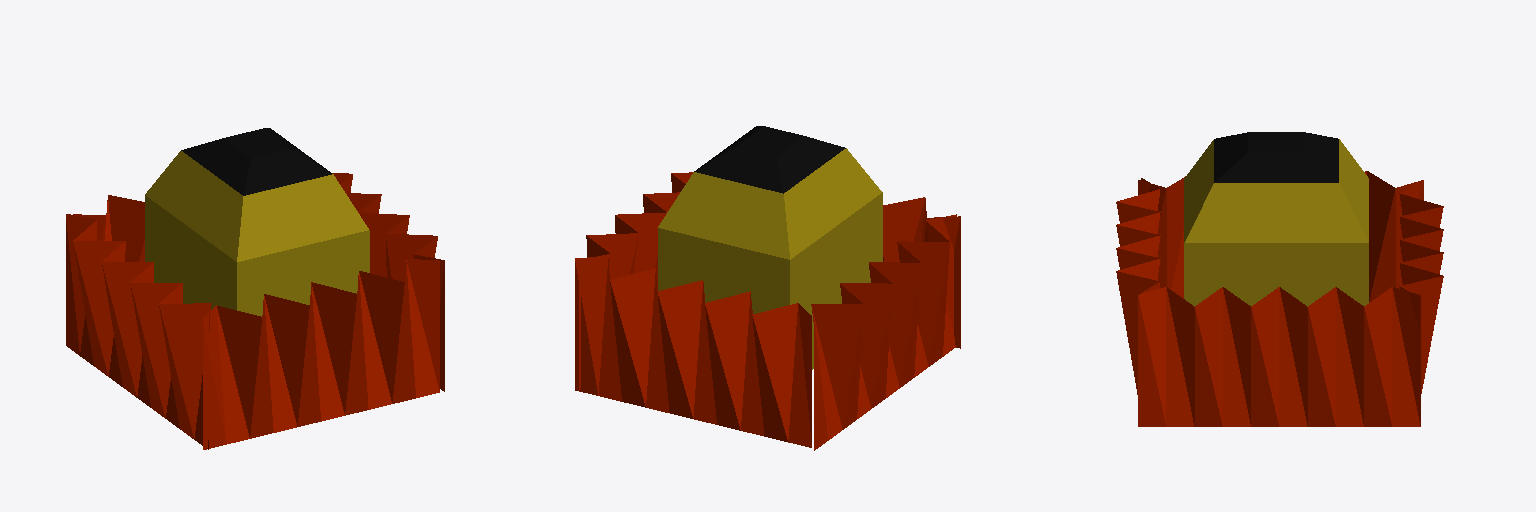
File: barrack1.obj
The picture shows the model from 3 angles: view 1: azimuth 30°, elevation 25°; view 2: azimuth 150°, elevation 25°; view 3: azimuth 270°, elevation 25°; orthographic projection.
Visible parts, largest first — view 1: Plane, Cube_Cube.001, Plane.003, Plane.002, Plane.001; view 2: Cube_Cube.001, Plane.001, Plane.003, Plane.002, Plane; view 3: Plane.002, Cube_Cube.001, Plane.003, Plane.001, Plane.
Boxes of the visible parts, box(x1,y1,x2,y2) form: Plane: box(203, 259, 439, 449); Cube_Cube.001: box(145, 128, 369, 316); Plane.003: box(66, 214, 211, 449); Plane.002: box(332, 173, 444, 391); Plane.001: box(73, 195, 144, 261); Cube_Cube.001: box(658, 126, 882, 369); Plane.001: box(575, 257, 811, 447); Plane.003: box(811, 214, 956, 450); Plane.002: box(579, 172, 692, 391); Plane: box(883, 197, 960, 348); Plane.002: box(1138, 287, 1420, 426); Cube_Cube.001: box(1184, 132, 1368, 306); Plane.003: box(1138, 171, 1423, 302); Plane.001: box(1399, 182, 1443, 393); Plane: box(1116, 178, 1160, 394).
Size of the model in its own units: 12.4 by 9.64 by 12.6.